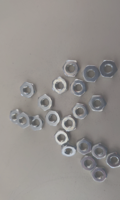nut: (100, 60, 118, 79), (72, 103, 90, 121), (83, 66, 100, 83), (63, 61, 80, 78), (90, 96, 107, 113), (61, 116, 78, 133), (52, 77, 68, 95), (45, 111, 64, 126), (20, 83, 37, 99), (38, 95, 54, 112), (76, 139, 93, 155), (71, 80, 87, 96), (92, 144, 108, 160), (29, 114, 44, 131), (91, 168, 108, 183), (17, 112, 31, 130), (81, 156, 96, 172), (106, 153, 120, 169), (55, 131, 71, 145), (61, 144, 76, 158), (10, 109, 20, 126)
